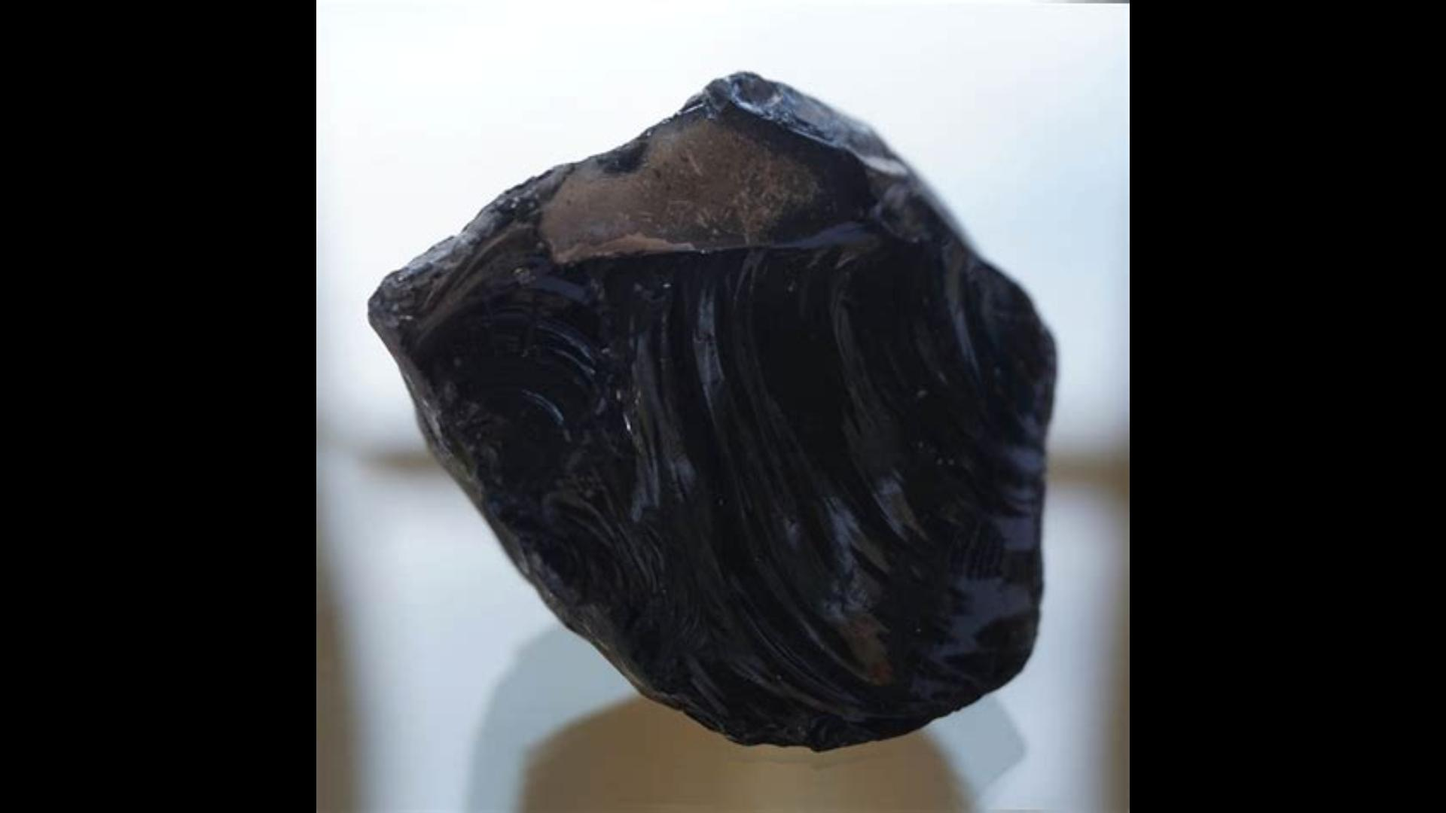rock: (370, 74, 1052, 748)
